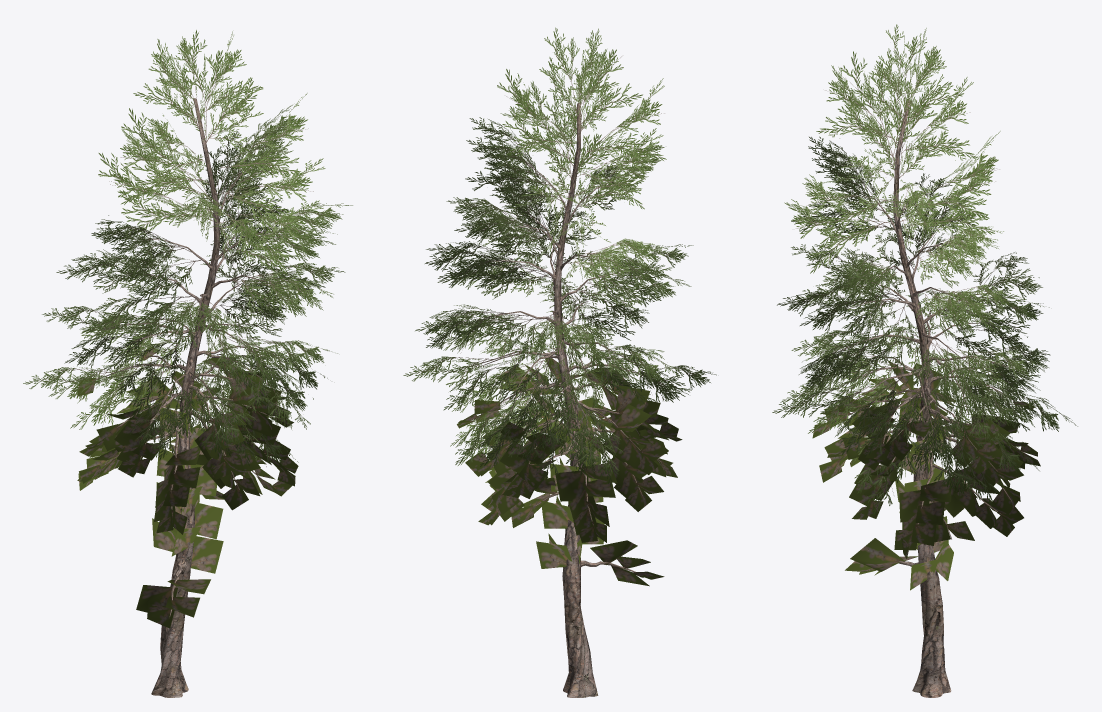
The model's file is spruce.fbx.
3 renders of one model, left to right at view 1: azimuth 30°, elevation 25°; view 2: azimuth 150°, elevation 25°; view 3: azimuth 270°, elevation 25°, orthographic. The views are drawn at different scales.
Parts seen in each view (by area): view 1: Tree_1, Tree_2, Tree_0; view 2: Tree_1, Tree_2, Tree_0; view 3: Tree_1, Tree_2, Tree_0.
Boxes of the visible parts, <box> form: Tree_1: <box>23,30,352,466</box>; Tree_2: <box>77,346,298,628</box>; Tree_0: <box>97,98,287,697</box>; Tree_1: <box>403,27,716,486</box>; Tree_2: <box>457,351,682,586</box>; Tree_0: <box>465,103,663,697</box>; Tree_1: <box>772,24,1077,514</box>; Tree_2: <box>812,360,1040,590</box>; Tree_0: <box>828,101,1027,697</box>.
Size of the model in its own units: 312 by 742 by 324.
Materials: 3 (3 with a texture image).
